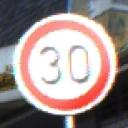speed_limit_30: (9, 10, 123, 118)
